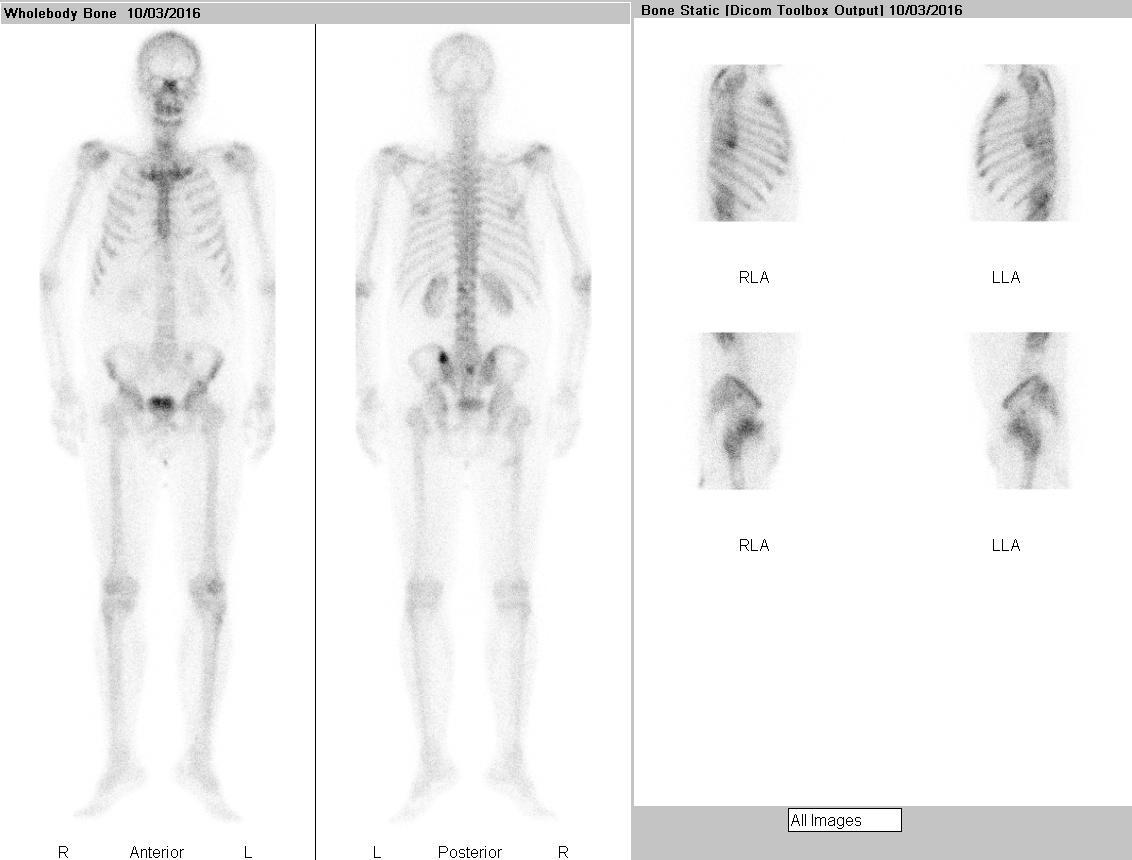person: (1, 24, 631, 860)
